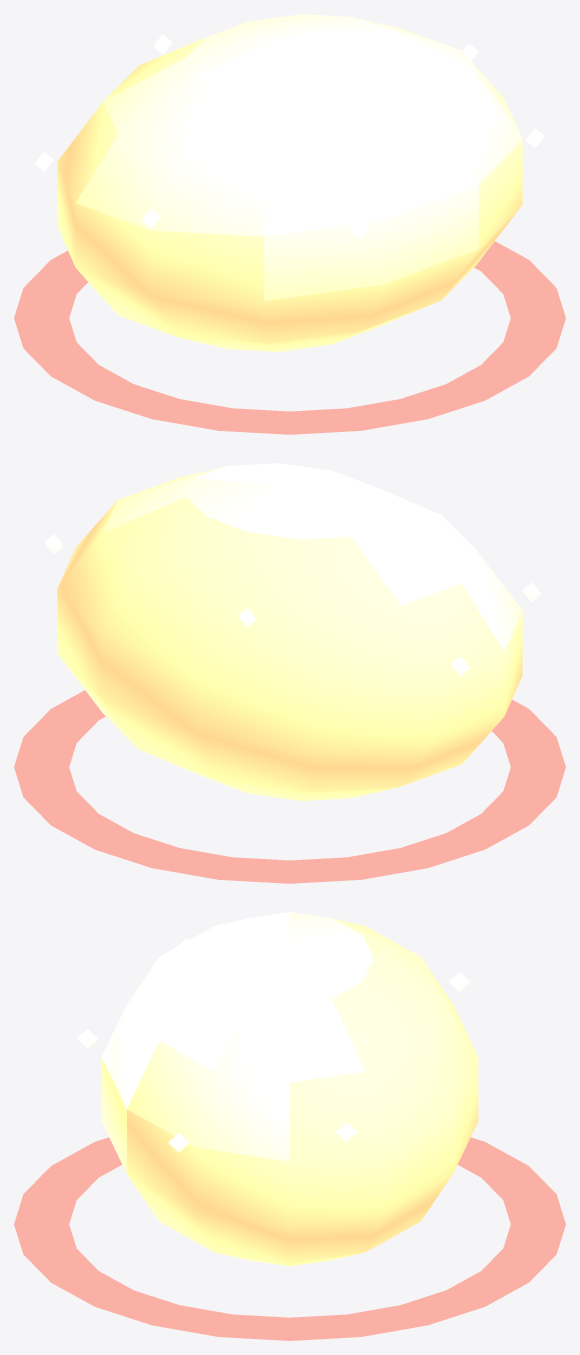
Rendered from elliptical_galaxy.glb.
The picture shows the model from 3 angles, top to bottom: view 1: azimuth 30°, elevation 25°; view 2: azimuth 150°, elevation 25°; view 3: azimuth 270°, elevation 25°; orthographic projection.
Visible parts, largest first — view 1: body; view 2: body; view 3: body.
Boxes of the visible parts, x1,y1,x2,y2 form: body: (14, 14, 565, 434); body: (14, 463, 565, 883); body: (14, 912, 565, 1340).
Size of the model in its own units: 200 by 116 by 200.
